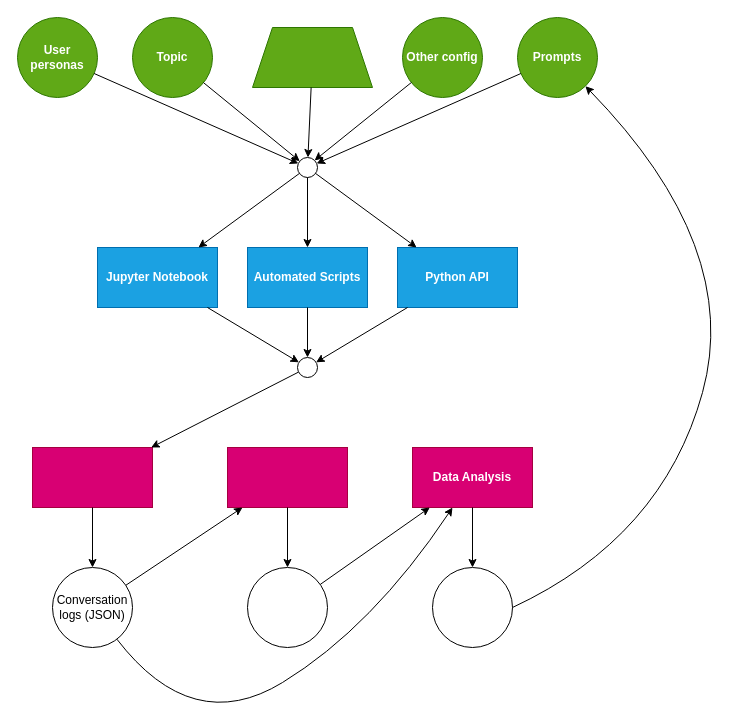
The diagram is 729 pixels wide and 720 high, and some of its shapes have lost their labels. The shapes that lost their labels are listed below. From the top down, each one's centre as x and y in pixels, then its label:
At (x=312, y=57): "LLM".
At (x=92, y=477): "Generate Conversation".
At (x=287, y=477): "Generate Annotation".
At (x=287, y=607): "Annotation logs (JSON)".
At (x=472, y=607): "Results".
